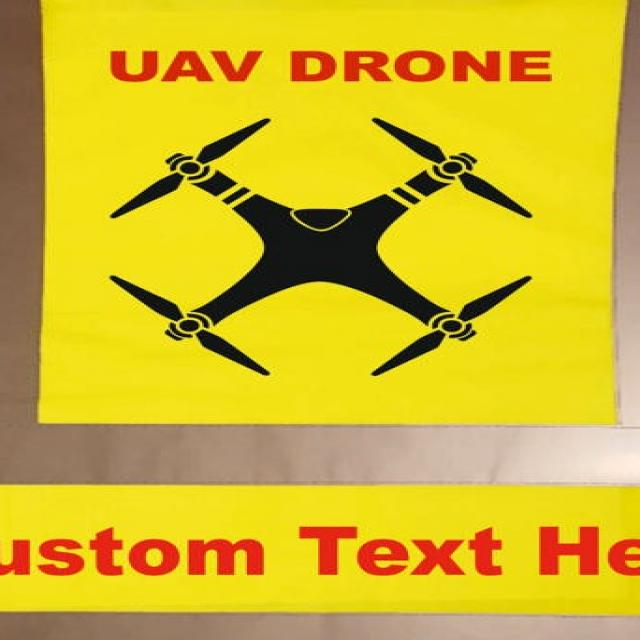drone: (78, 114, 574, 380)
